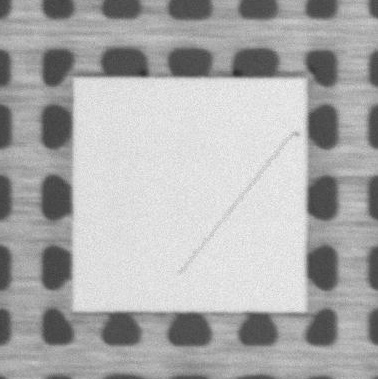DIE_CRACK: (180, 134, 291, 274)
